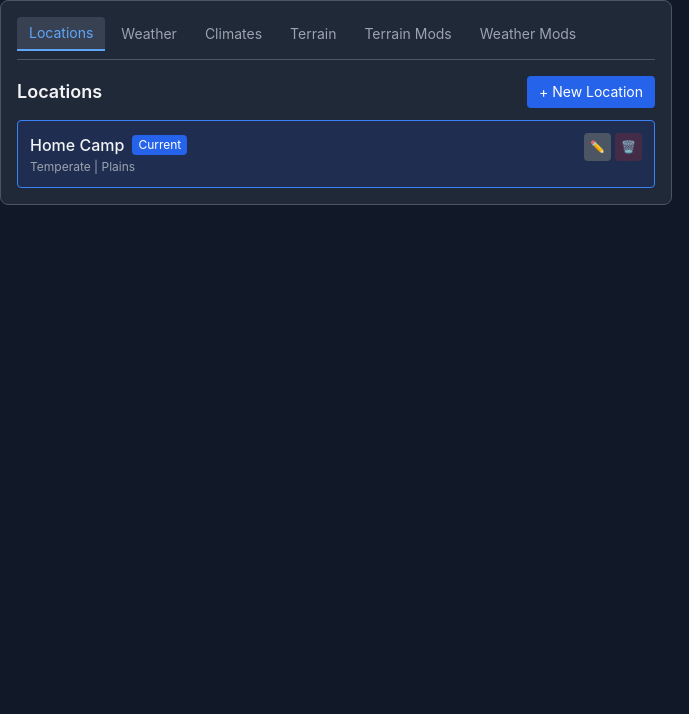
LocationManager router › switches among weather, climate, terrain, and modifier views
Click the button "Weather". click: x=149, y=34
box: [109,17,189,51]
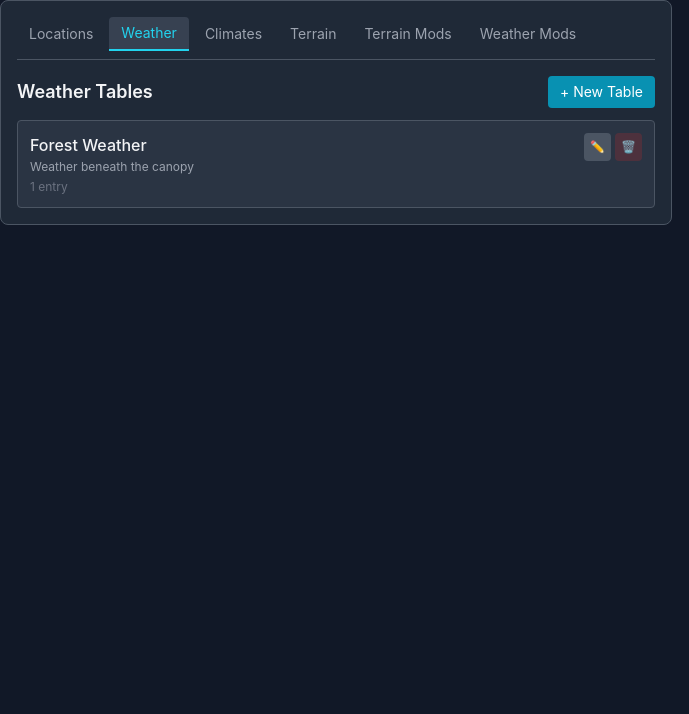
Expected: the heading "Weather Tables" is shown, [17,78,153,106]
Click the button "Climates". click: x=233, y=34
box: [193,17,274,51]
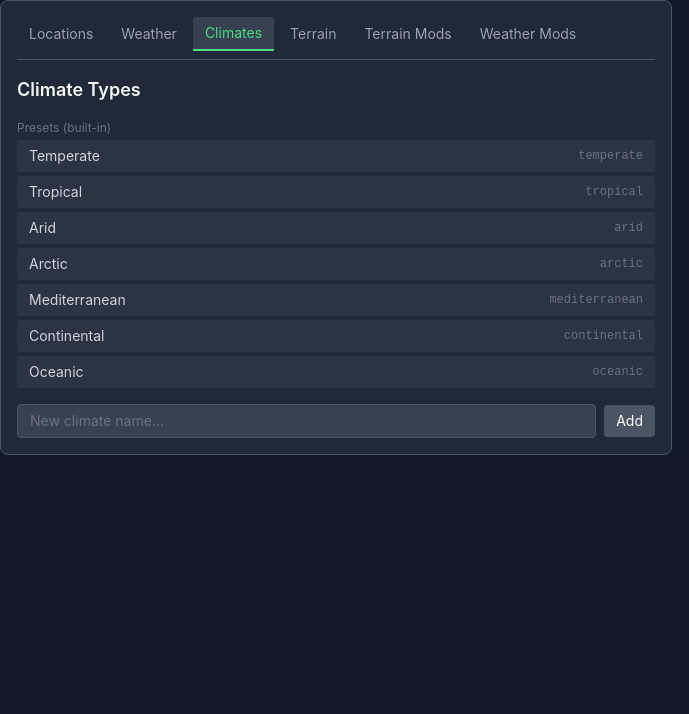
Expected: the heading "Climate Types" is shown, [17,79,141,100]
Click the button "Terrain". click: x=313, y=34
box: [278,17,348,51]
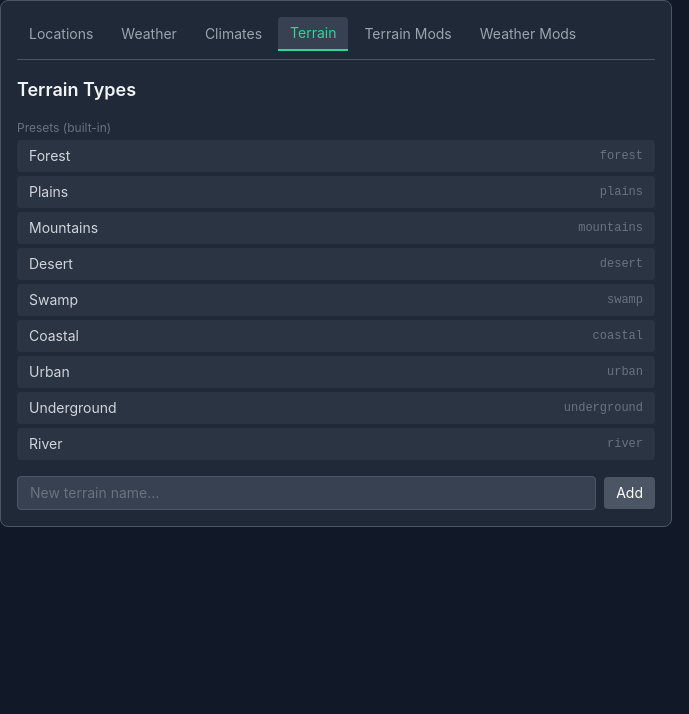
Expected: the heading "Terrain Types" is shown, [17,79,136,100]
Click the button "Terrain Mods". click: x=408, y=34
box: [352,17,464,51]
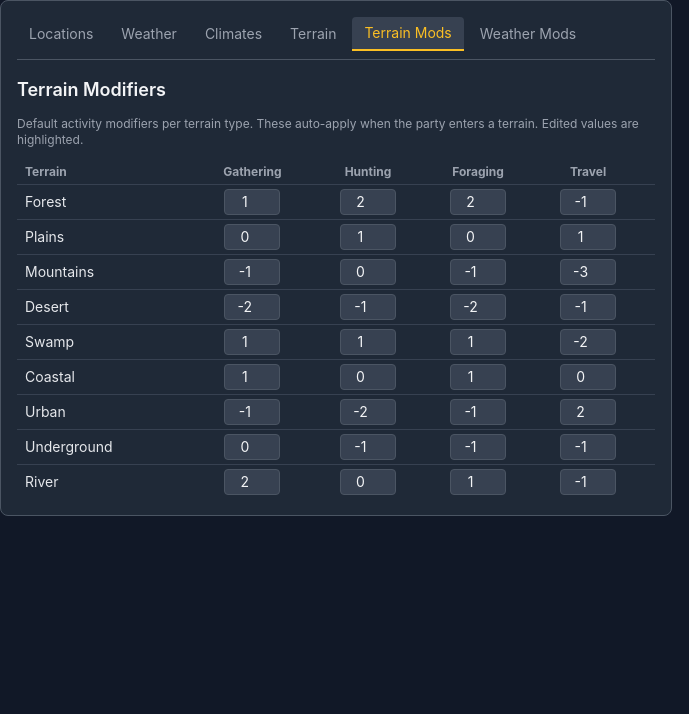
Expected: the heading "Terrain Modifiers" is shown, [17,79,166,100]
Click the button "Weather Mods". click: x=528, y=34
box: [468,17,588,51]
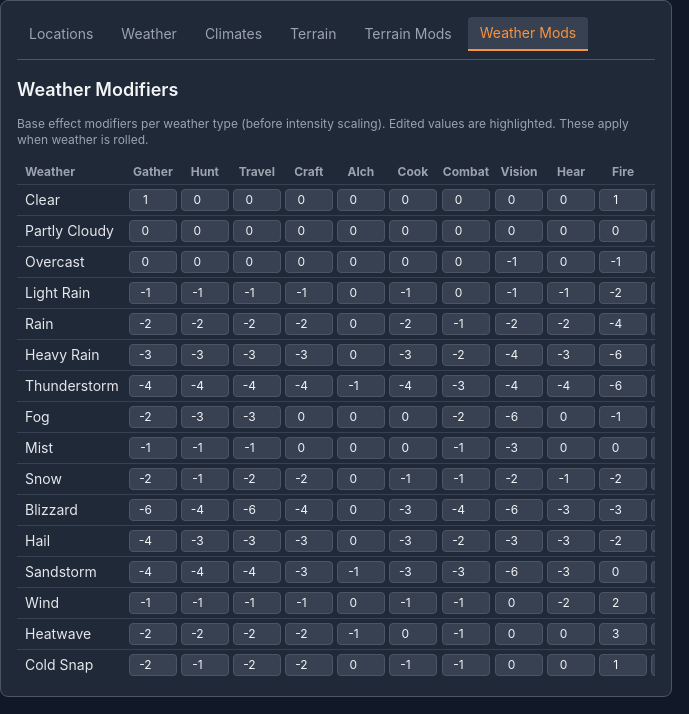
Expected: the heading "Weather Modifiers" is shown, [17,79,178,100]
